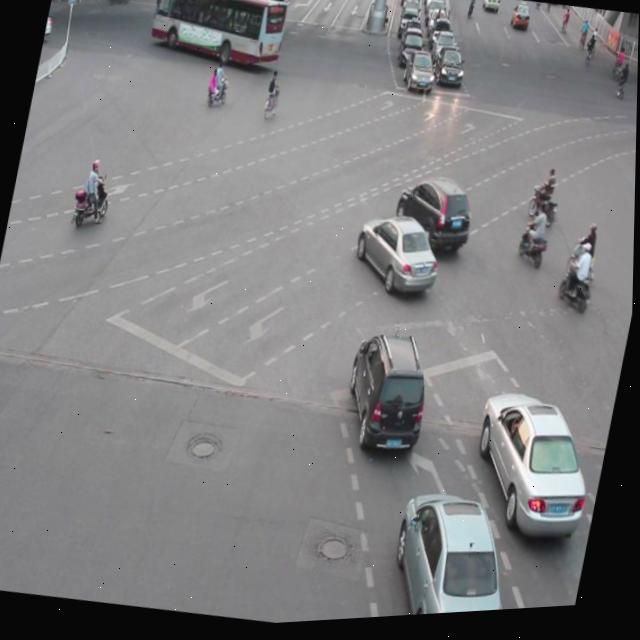car: (460, 388, 604, 556), (382, 485, 526, 622), (338, 327, 439, 463), (349, 209, 447, 305), (389, 173, 481, 266)
